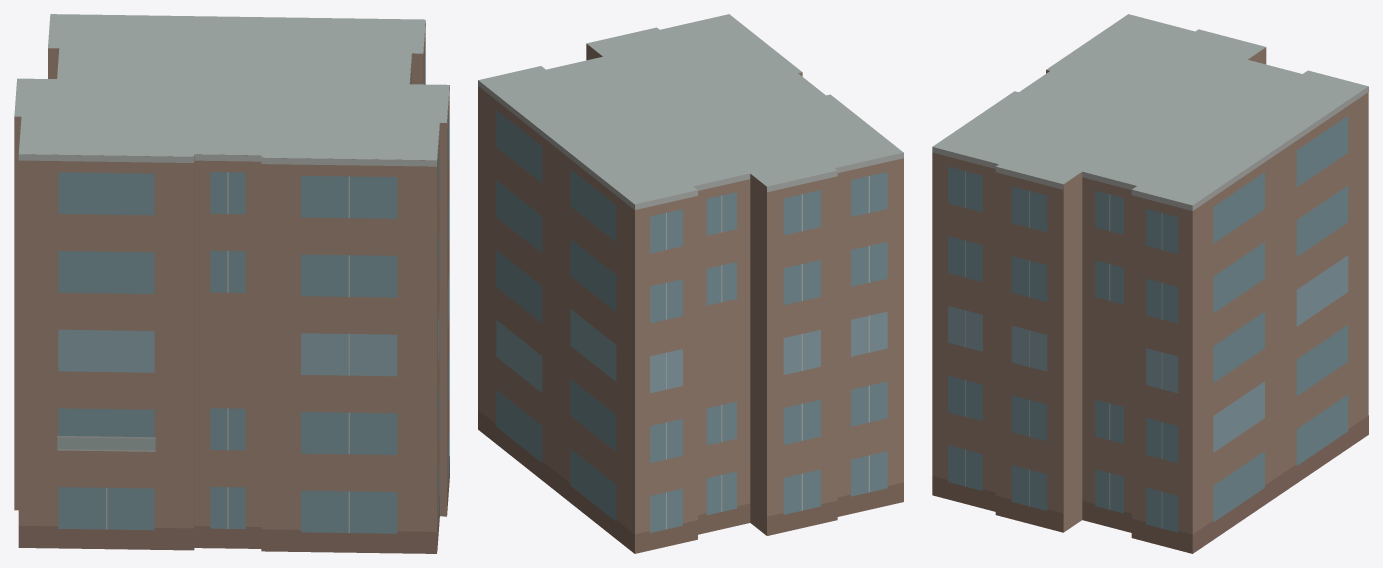
File: survey-upis-32795855.glb
3 renders of one model, left to right at view 1: azimuth 30°, elevation 25°; view 2: azimuth 150°, elevation 25°; view 3: azimuth 270°, elevation 25°, orthographic. The views are drawn at different scales.
Visible parts, largest first — view 1: survey-upis-32795855.tmp; view 2: survey-upis-32795855.tmp; view 3: survey-upis-32795855.tmp.
Boxes of the visible parts, <box> form: survey-upis-32795855.tmp: <box>14,14,449,553</box>; survey-upis-32795855.tmp: <box>478,14,903,553</box>; survey-upis-32795855.tmp: <box>932,14,1368,553</box>.
Size of the model in its own units: 17.93 by 15.2 by 17.27.
